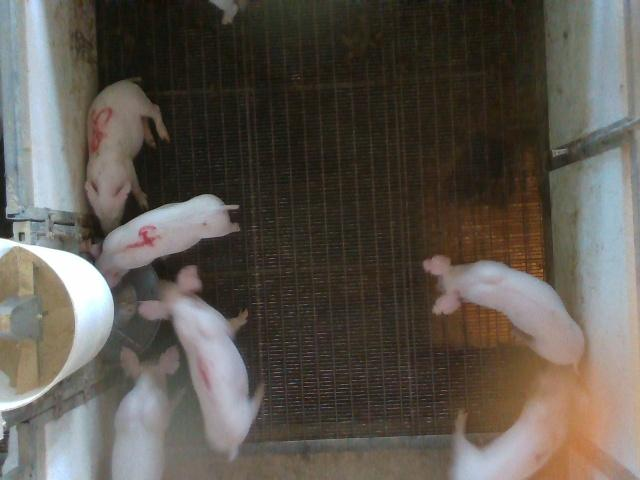pig-1: (139, 265, 264, 459)
pig-4: (96, 194, 239, 286)
pig-5: (85, 80, 169, 233)
